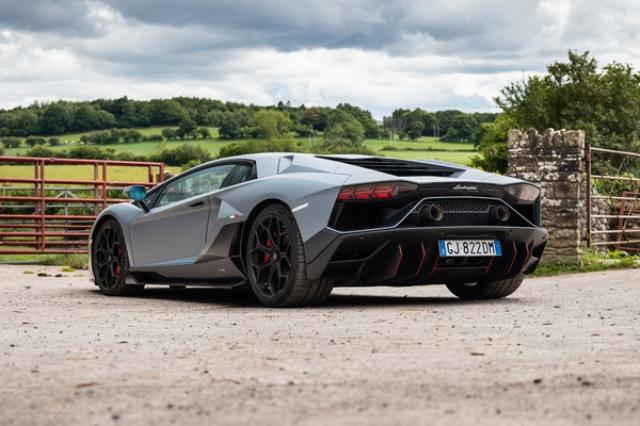lamborghini: (90, 152, 548, 308)
